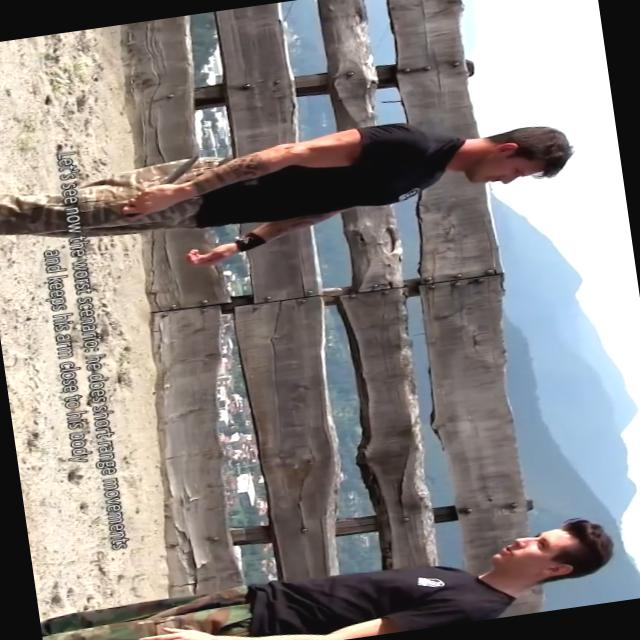knife: (114, 150, 212, 224)
